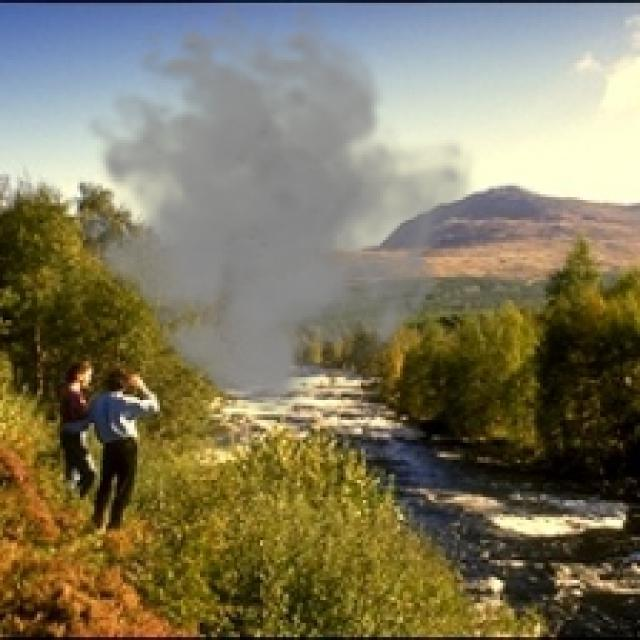Smoke: (60, 2, 480, 418)
